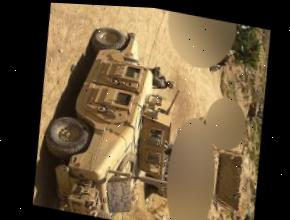armored_car: (27, 17, 171, 220)
